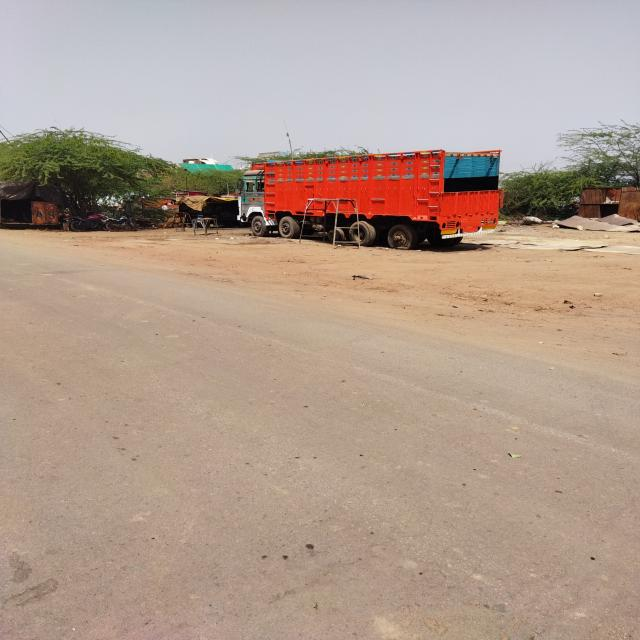Truck: (231, 132, 518, 255)
